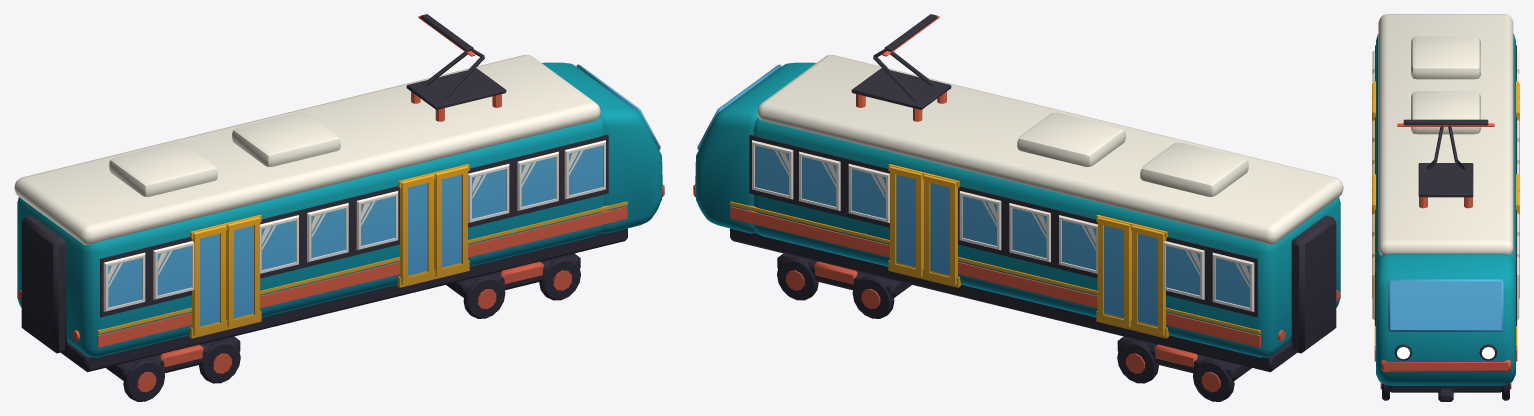
File: train.glb
3 renders of one model, left to right at view 1: azimuth 30°, elevation 25°; view 2: azimuth 150°, elevation 25°; view 3: azimuth 270°, elevation 25°, orthographic. The views are drawn at different scales.
Parts seen in each view (by area): view 1: train; view 2: train; view 3: train.
Boxes of the visible parts, bbox=[...] form: train: bbox=[14, 14, 664, 401]; train: bbox=[693, 14, 1343, 401]; train: bbox=[1372, 14, 1519, 401].
Bounding box in the file's own units: 12.77 × 5.33 × 2.96.
